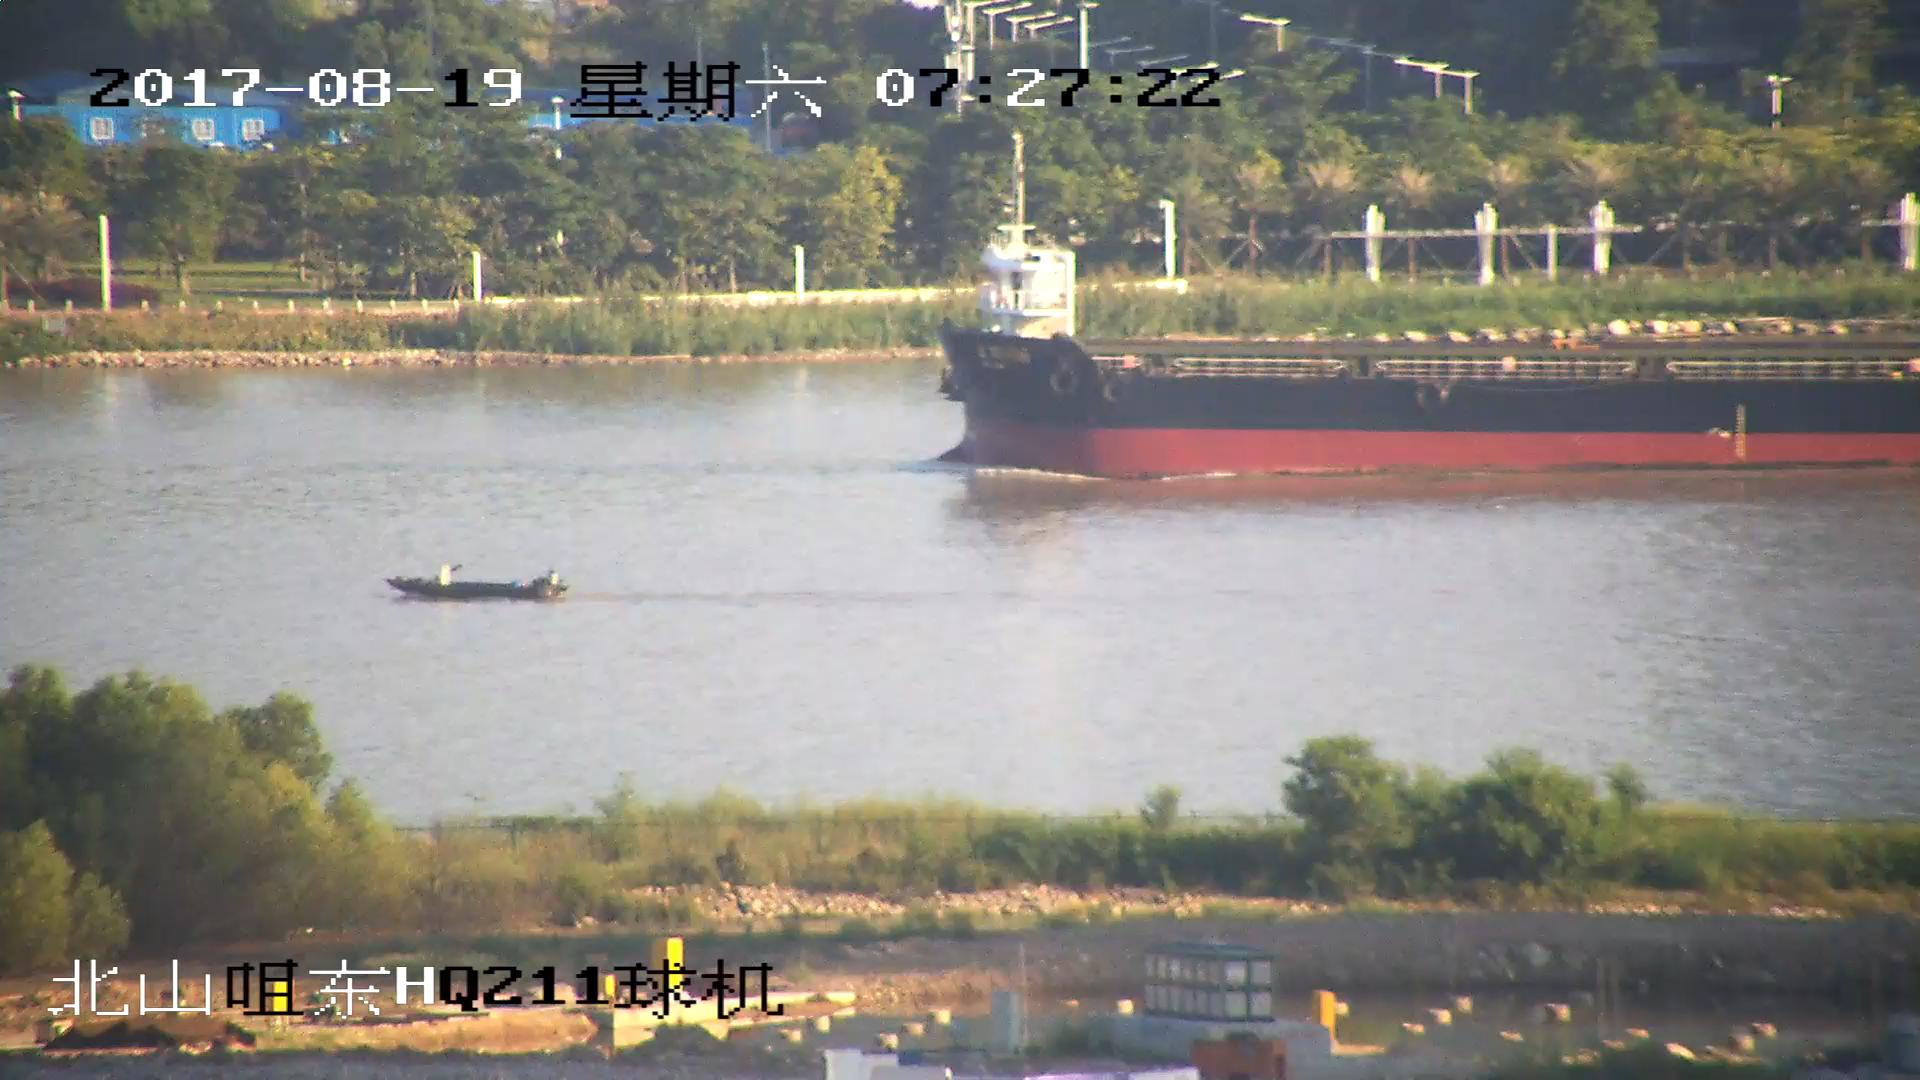fishing boat: (395, 562, 569, 610)
general cargo ship: (937, 216, 1920, 480)
